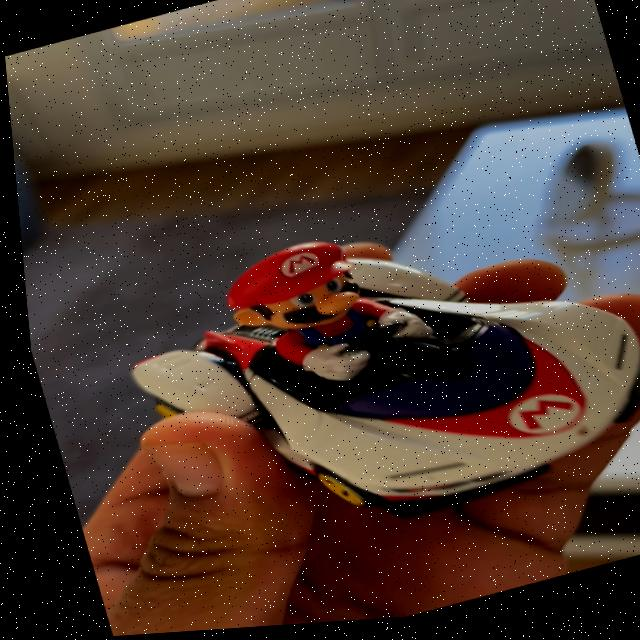mario: (71, 162, 640, 595)
